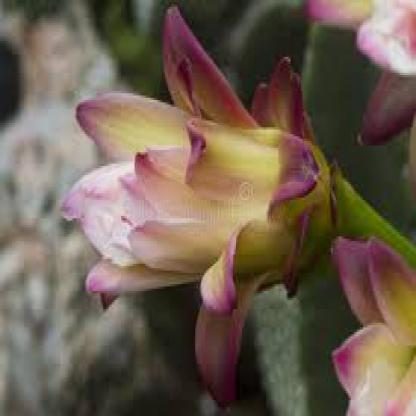Aglonema: (105, 137, 369, 347)
